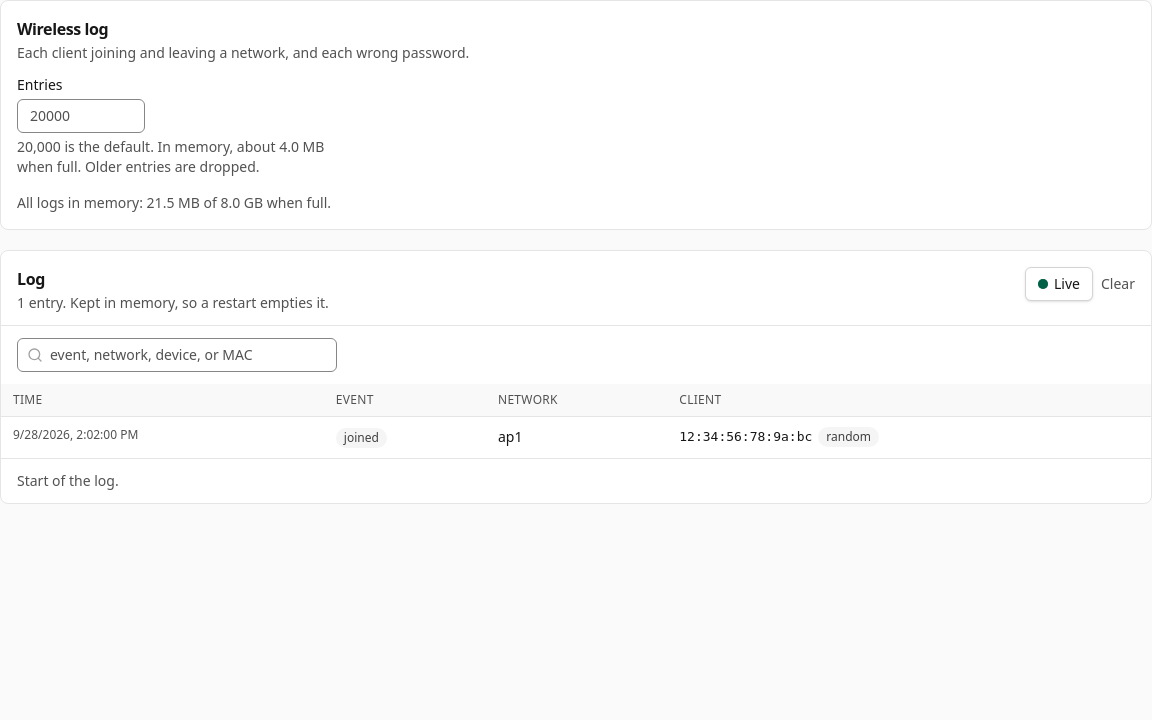
it: Wireless log › clears the router’s log, once asked
The width and height of the screenshot is (1152, 720).
Click the button "Clear": (1118, 284) [1101, 274, 1135, 294]
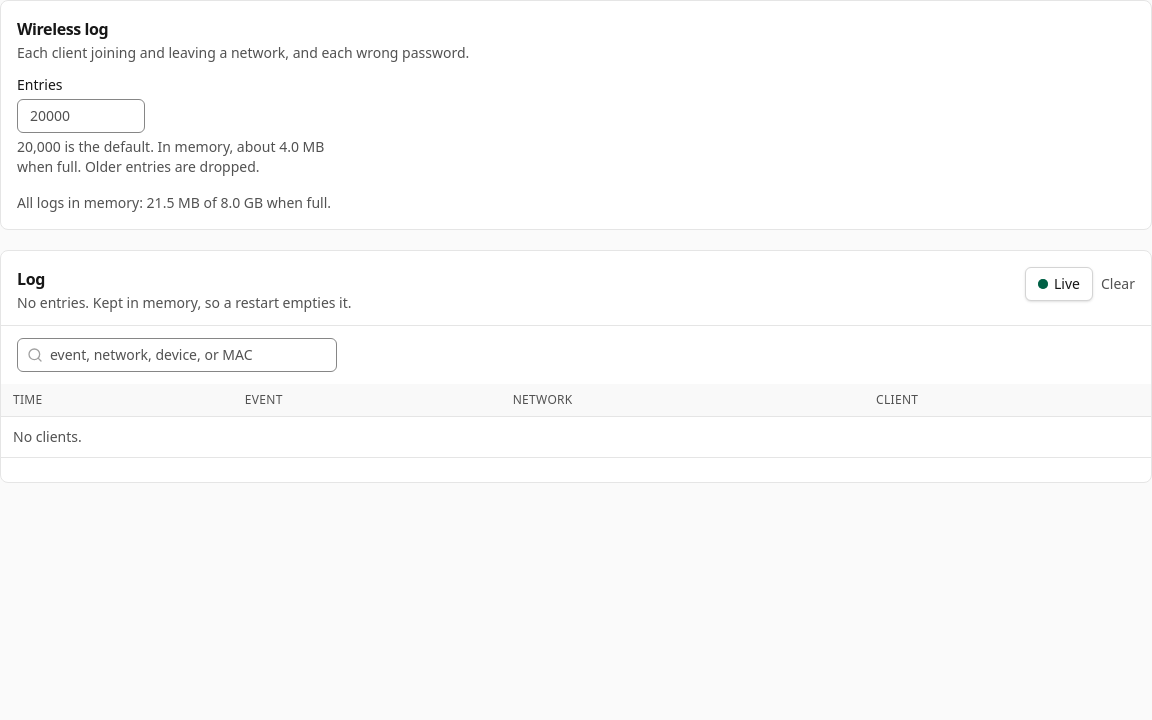
Expected: the text "No clients." is shown, [1, 416, 1151, 457]
